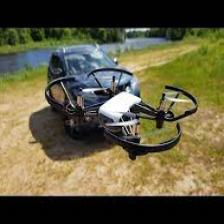drone: (45, 69, 198, 152)
